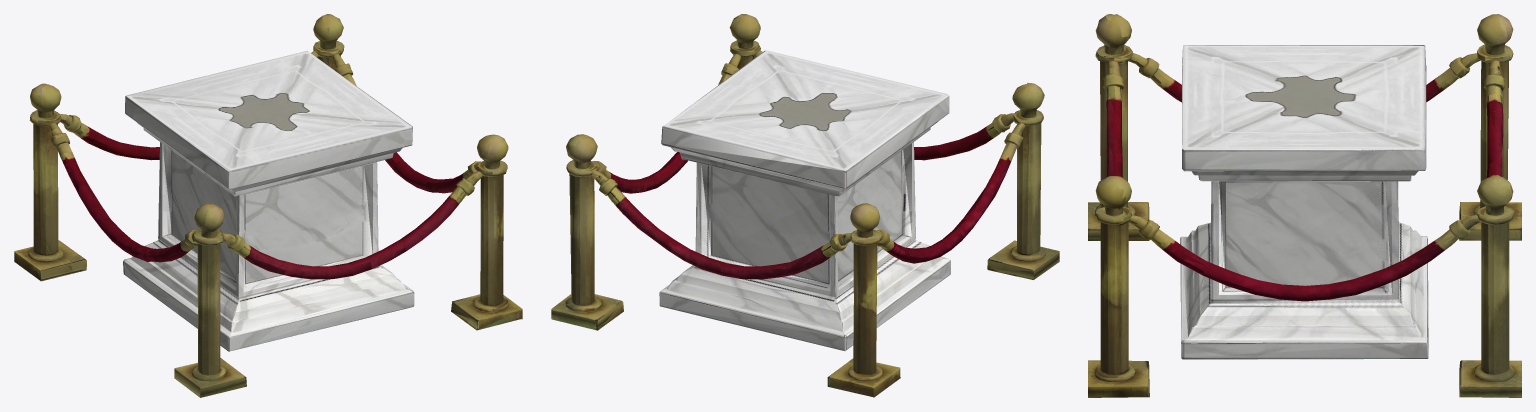
File: empty_plinth.glb
3 views of the same model, side by side, from view 1: azimuth 30°, elevation 25°; view 2: azimuth 150°, elevation 25°; view 3: azimuth 270°, elevation 25° (orthographic). The views are drawn at different scales.
Size of the model in its own units: 1 by 0.5352 by 1.
Materials: 1 (1 with a texture image).
